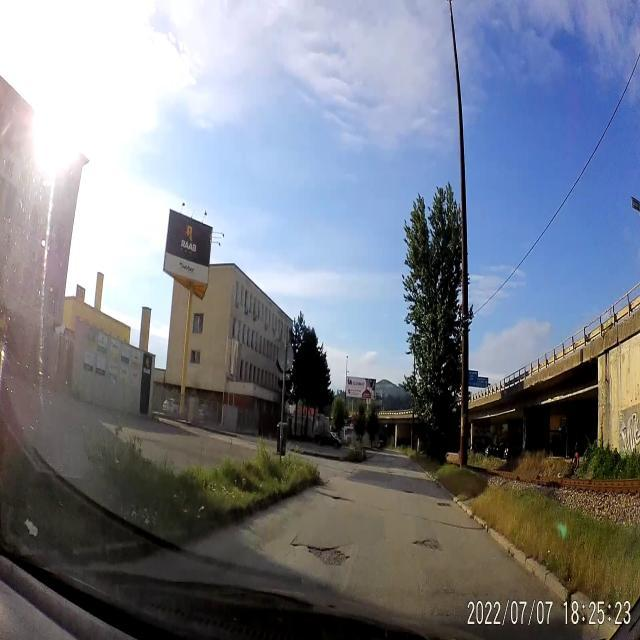Manhole: (436, 498, 450, 509)
Pothole: (290, 534, 352, 572), (412, 532, 444, 561), (402, 482, 419, 498)
